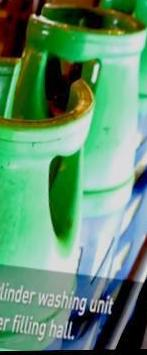cylinder: (1, 1, 147, 355)
